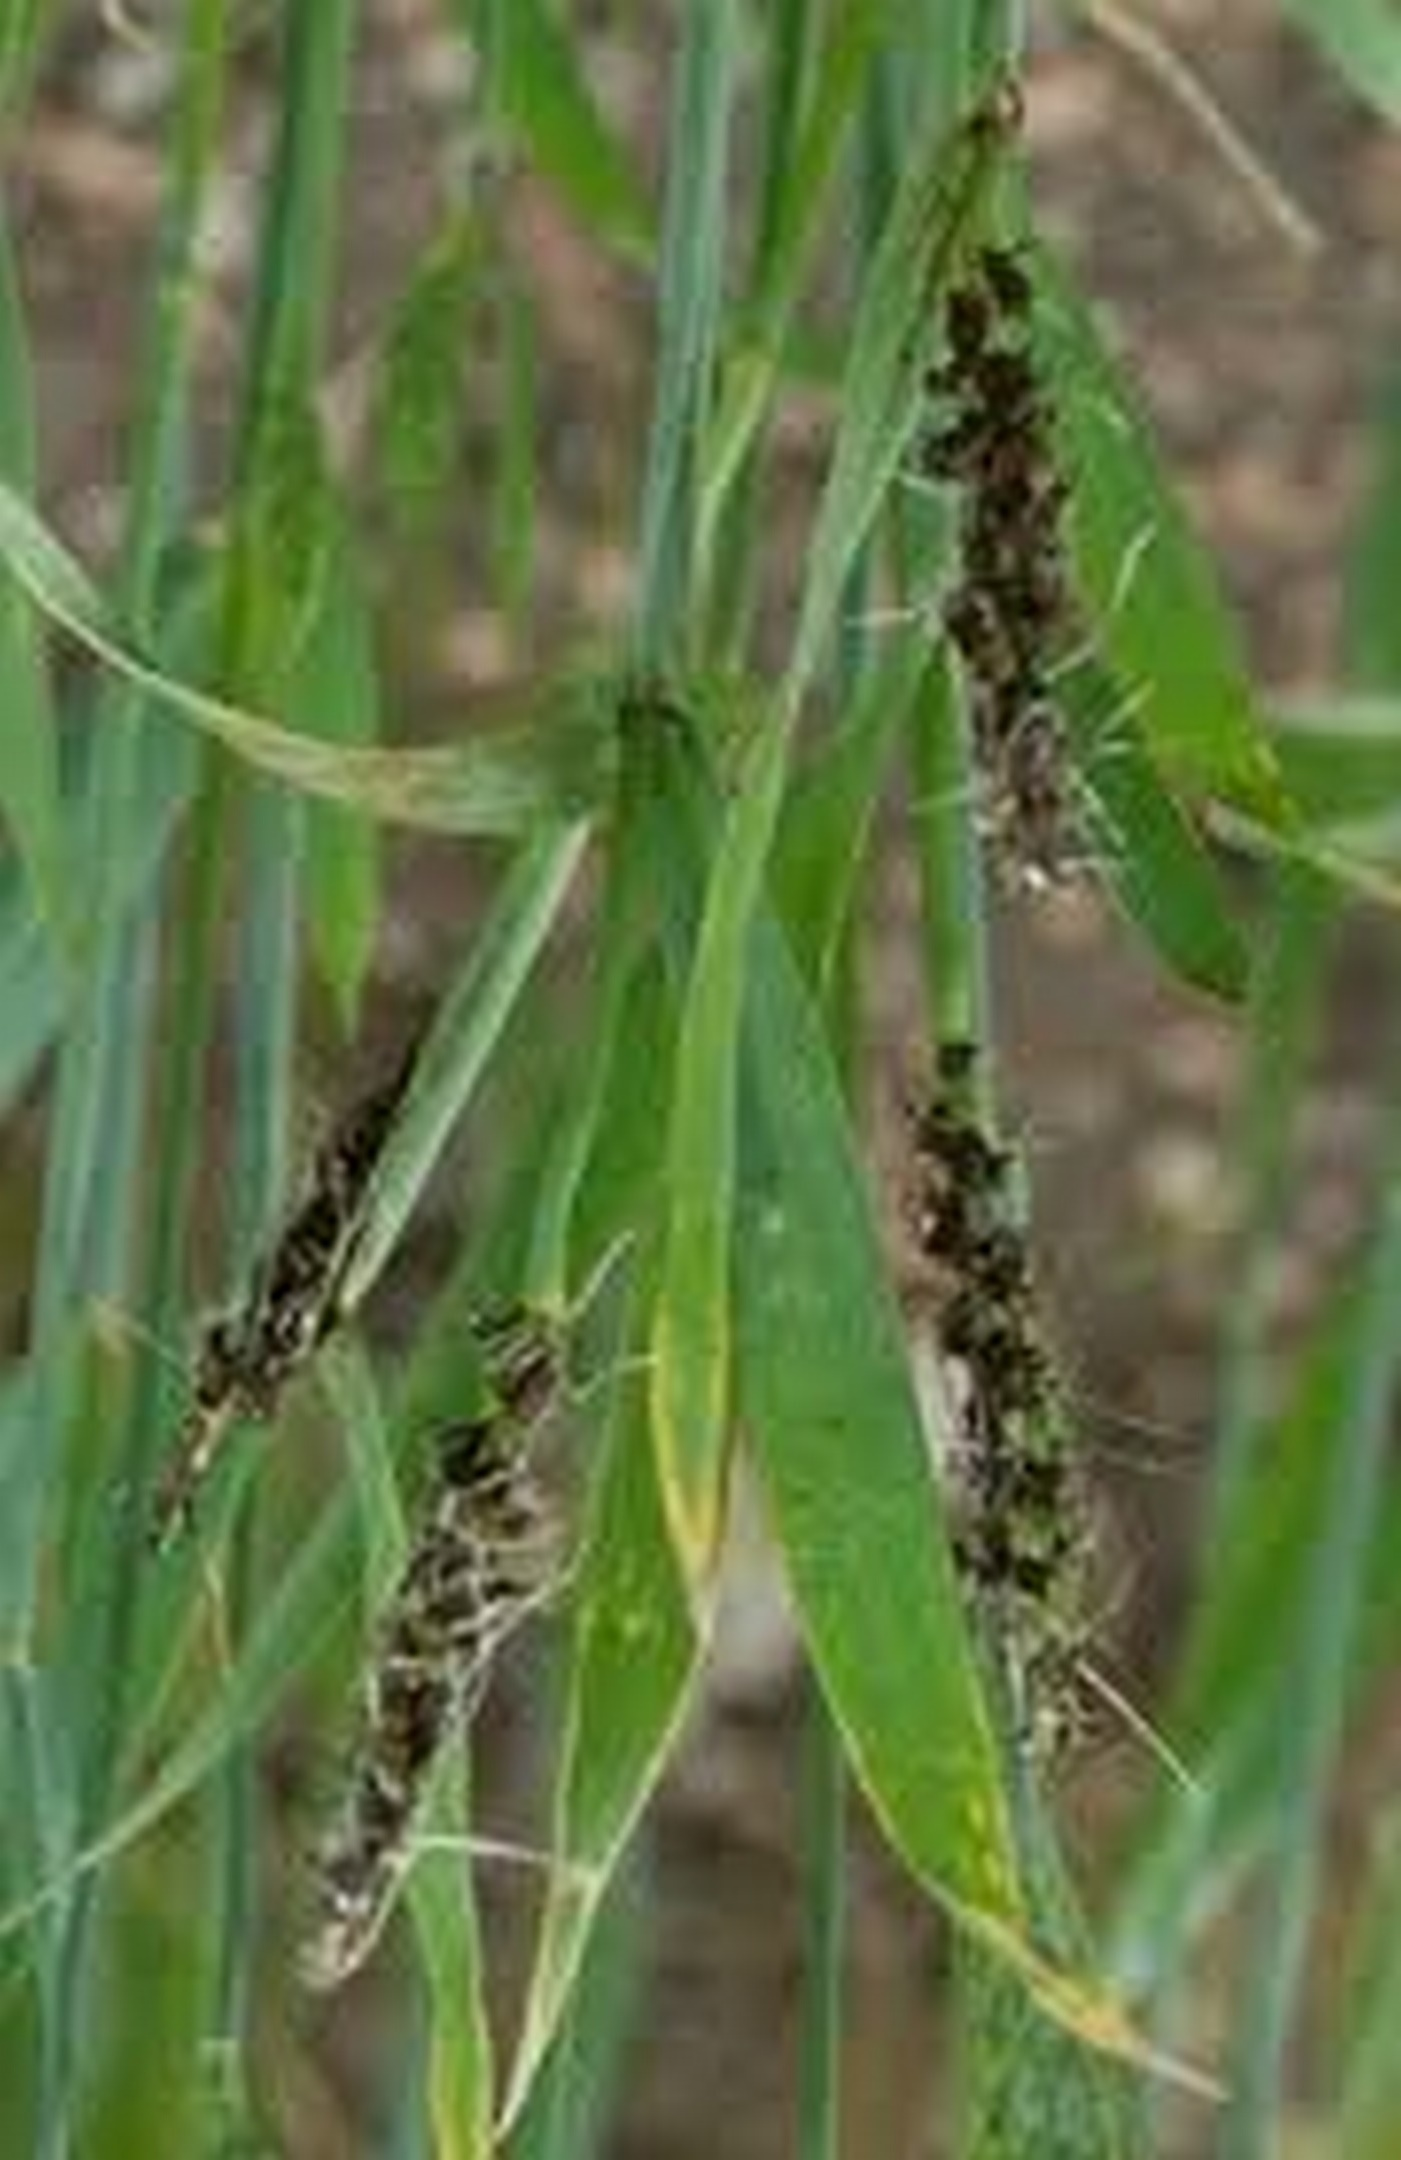Wheat Loose Smut: (162, 1074, 603, 1996), (856, 1049, 1157, 1773), (919, 239, 1159, 952)
